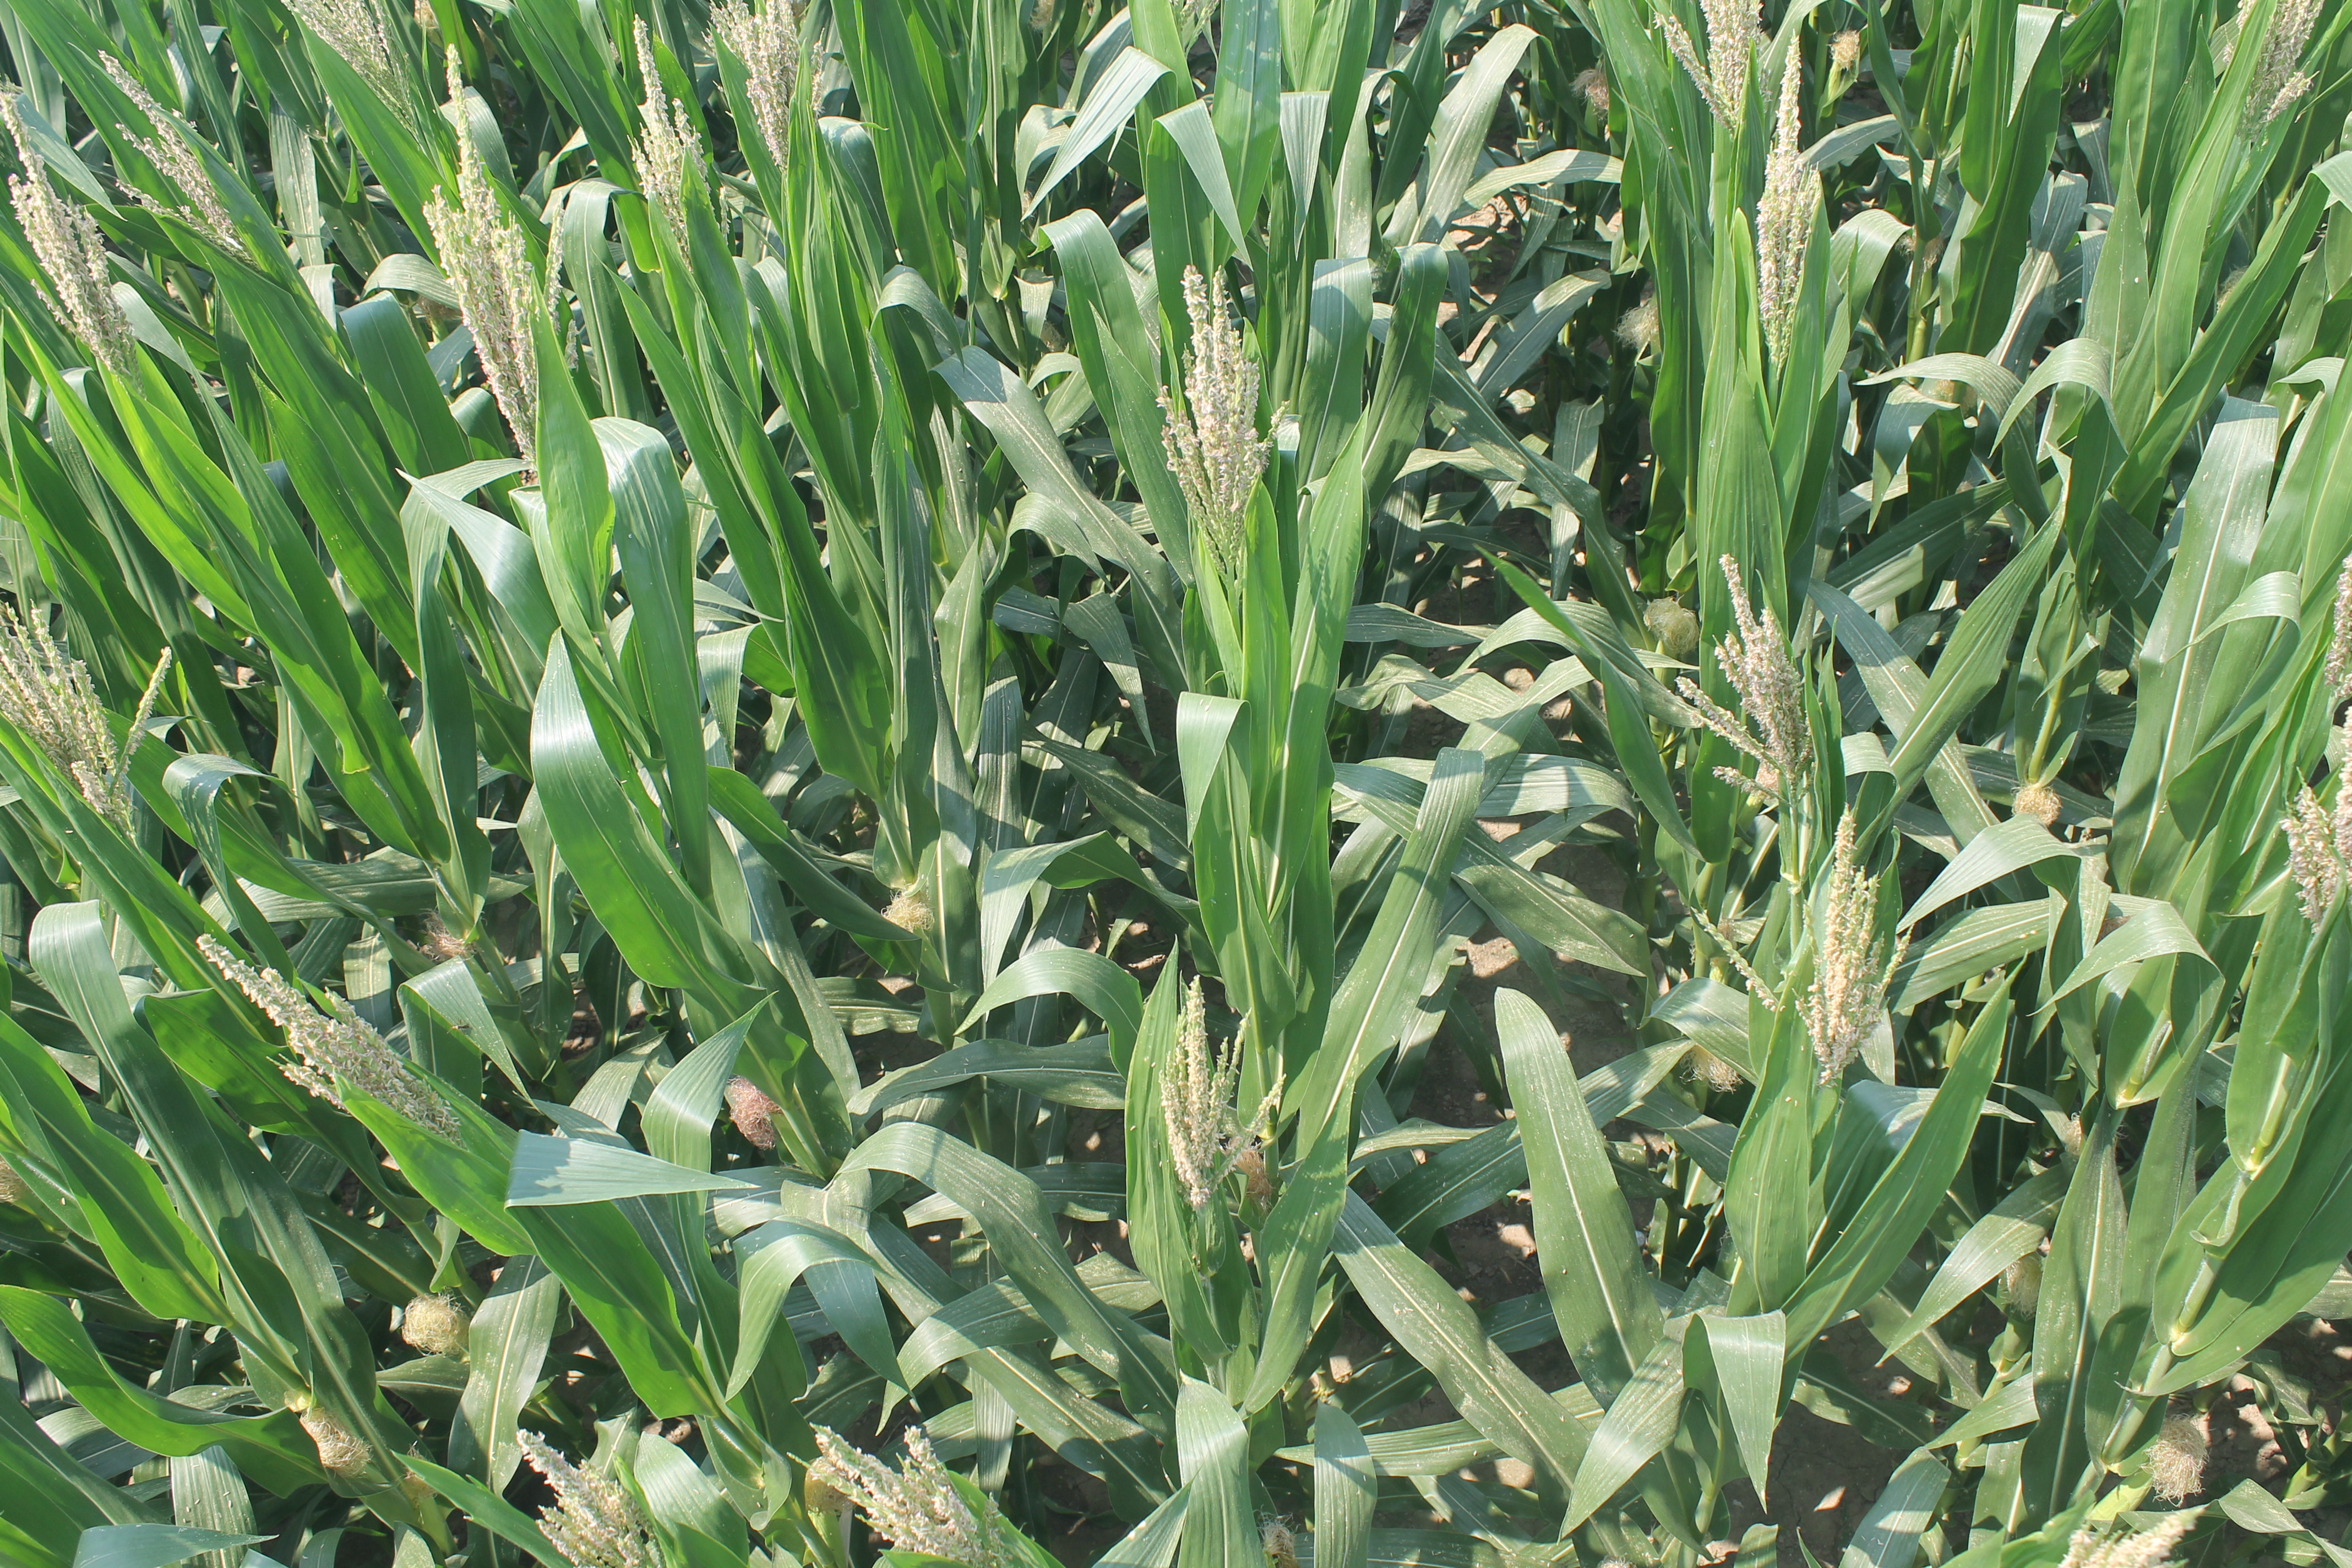Maize: (203, 938, 481, 1165), (429, 37, 563, 474), (1704, 796, 1911, 1074), (0, 569, 206, 840), (1157, 271, 1295, 584), (1129, 966, 1298, 1197), (807, 1400, 1036, 1568), (1652, 562, 1811, 765), (115, 52, 269, 255), (500, 1412, 700, 1568), (2280, 574, 2352, 943), (0, 136, 107, 378), (1757, 37, 1836, 362), (710, 0, 842, 156), (2201, 0, 2352, 133), (619, 21, 695, 255), (294, 0, 413, 96), (1664, 0, 1745, 124)
